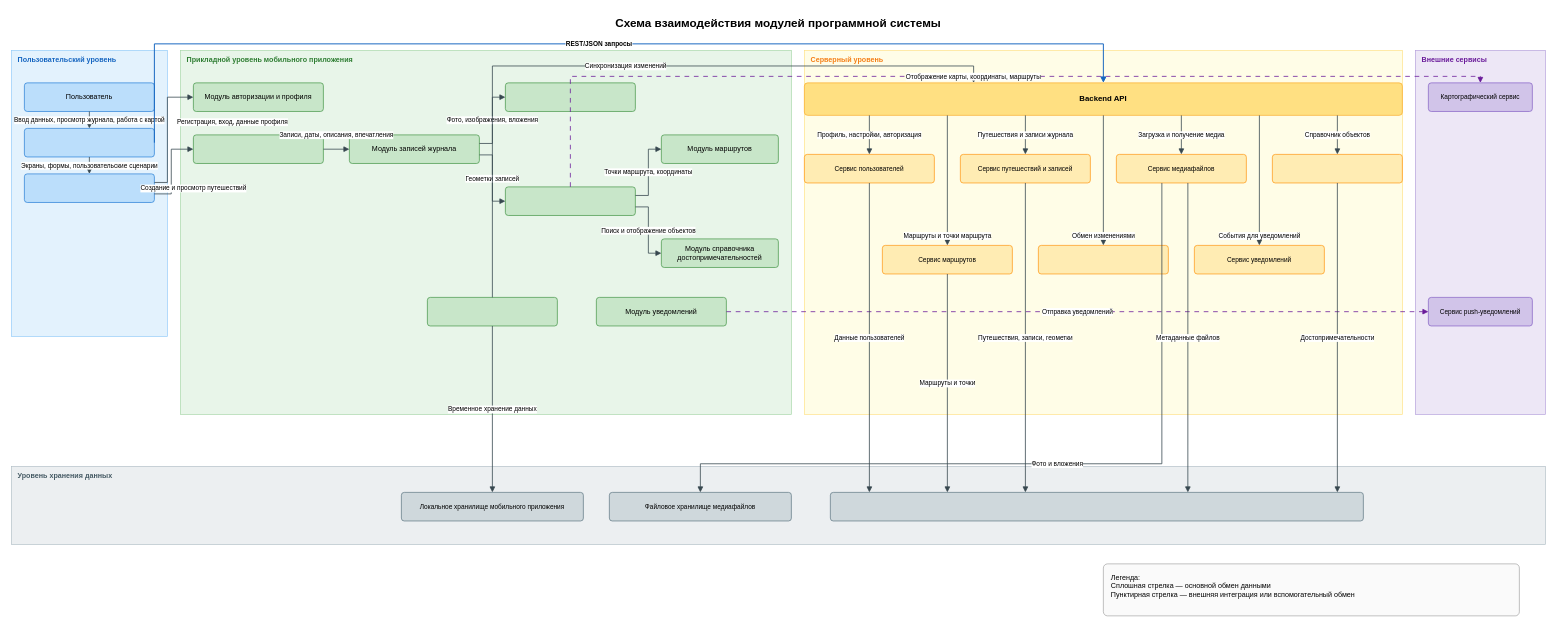
The diagram is 1557 pixels wide and 627 high, and some of its shapes have lost their labels. The shapes that lost their labels are listed below. From the top down, each one's centre as x and y in pixels, then its label:
pixel 570 96: Модуль работы с медиафайлами
pixel 89 142: Мобильное приложение
pixel 258 148: Модуль журнала путешествий
pixel 89 187: Модуль пользовательского интерфейса
pixel 1337 168: Сервис достопримечательностей
pixel 570 200: Модуль карты и геоданных
pixel 1103 259: Сервис синхронизации
pixel 492 311: Модуль офлайн-режима и синхронизации
pixel 1096 506: База данных PostgreSQL
